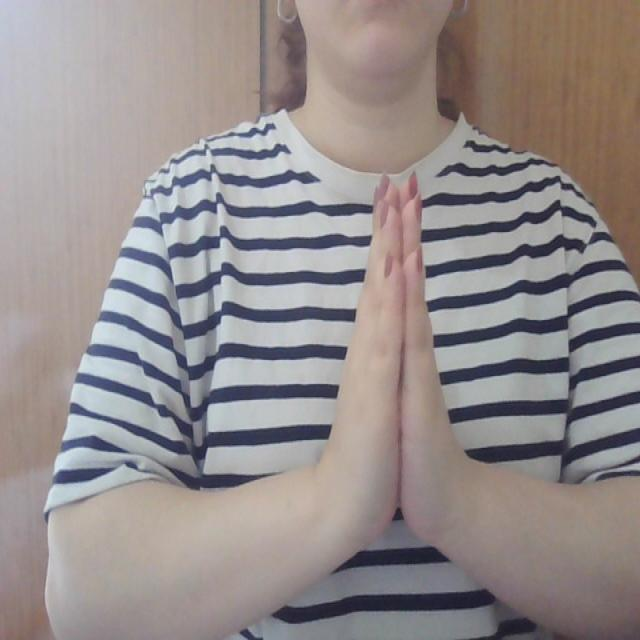Ozur-Dilemek: (319, 162, 470, 566)
